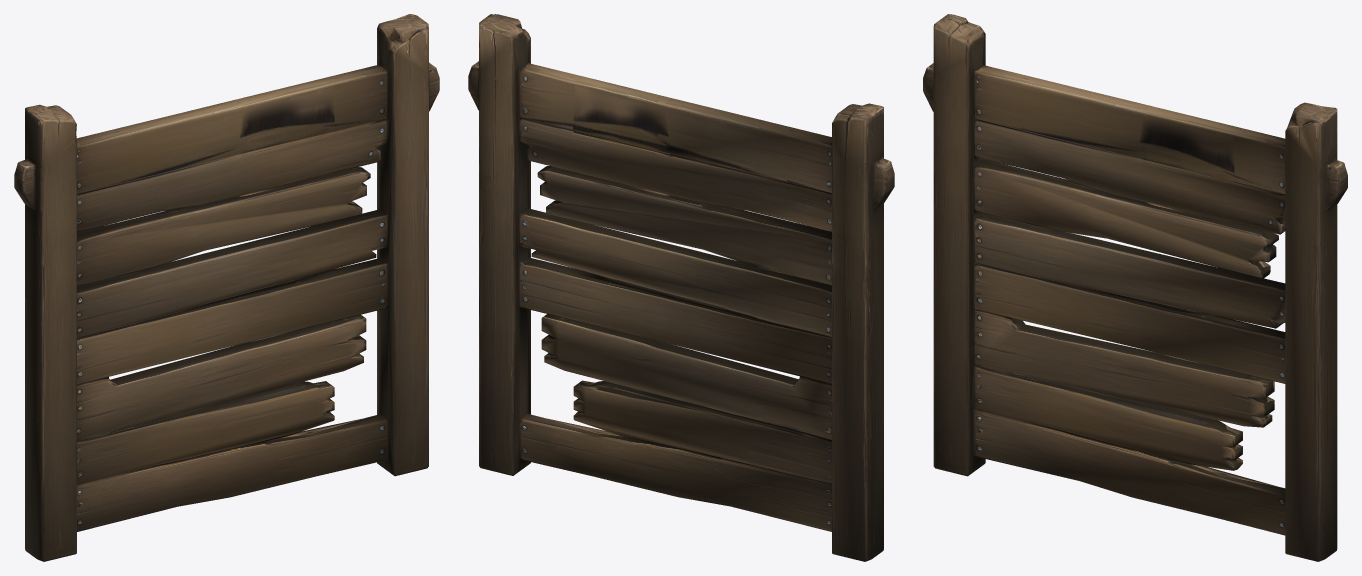
File: woodwall.glb
3 views of the same model, side by side, from view 1: azimuth 30°, elevation 25°; view 2: azimuth 150°, elevation 25°; view 3: azimuth 330°, elevation 25° (orthographic).
Parts seen in each view (by area): view 1: part_0000; view 2: part_0000; view 3: part_0000.
Part boxes in pixels (x1,y1,x2,y2): part_0000: (14,14,439,561); part_0000: (468,14,894,561); part_0000: (923,14,1347,561).
Size of the model in its own units: 0.8689 by 0.8862 by 0.0658.
Materials: 1 (1 with a texture image).
